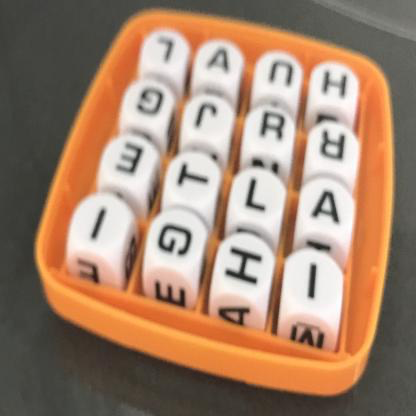a: (310, 178, 346, 233), (201, 37, 236, 84)
e: (113, 135, 149, 182)
g: (155, 212, 198, 269), (131, 77, 169, 126)
h: (222, 233, 270, 299), (317, 64, 353, 106)
i: (294, 250, 334, 314), (83, 192, 117, 247)
j: (192, 94, 224, 137)
l: (236, 167, 275, 223), (145, 28, 184, 76)
r: (316, 122, 352, 172), (254, 104, 290, 150)
t: (177, 154, 213, 200)
u: (262, 49, 299, 97)
